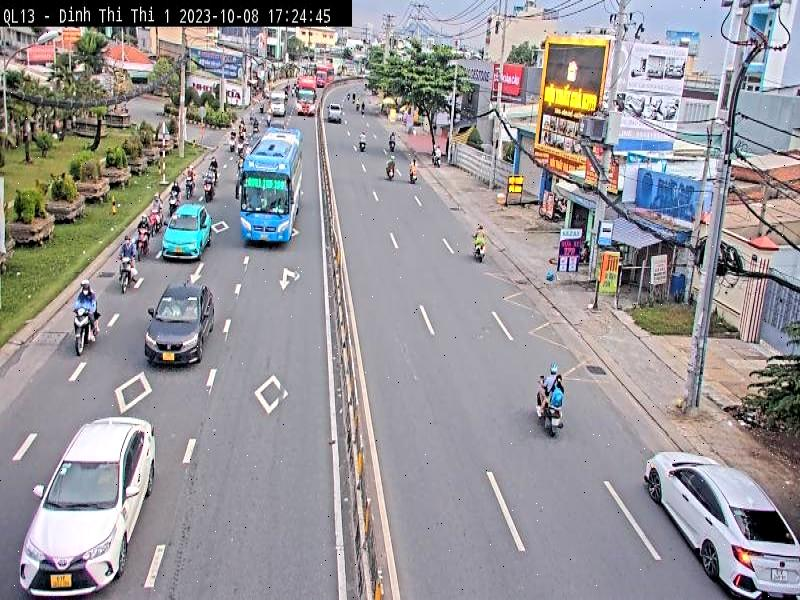bus: (239, 129, 306, 245), (294, 83, 316, 116)
car: (15, 418, 156, 596), (643, 451, 800, 599), (144, 282, 214, 368), (160, 204, 212, 261), (328, 98, 345, 128), (268, 89, 285, 115)
motorcycle: (66, 307, 96, 358), (538, 405, 562, 440), (411, 168, 420, 186), (359, 142, 368, 154)
